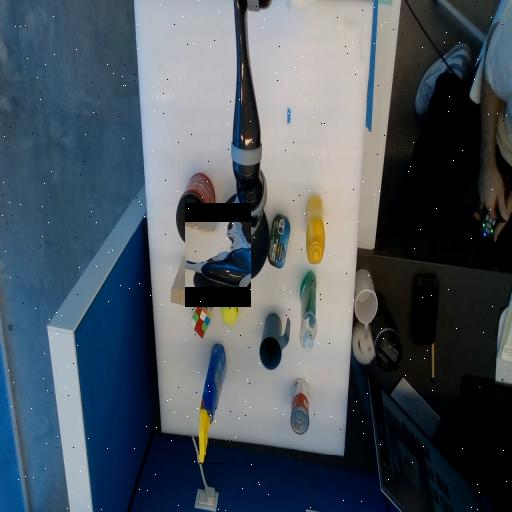bowl: (218, 194, 268, 280)
cleanser: (300, 271, 316, 350)
coffee_can: (175, 190, 214, 228)
jaco: (185, 221, 251, 287)
meat_can: (267, 229, 289, 251)
mug: (258, 326, 289, 356)
mustard_bottle: (305, 195, 324, 263)
rubik: (190, 305, 212, 327)
soup_can: (290, 397, 308, 415)
tennis_ball: (221, 294, 238, 324)
windex: (198, 345, 225, 463)
wooden_block: (171, 258, 195, 304)
workspace: (135, 3, 372, 455)
